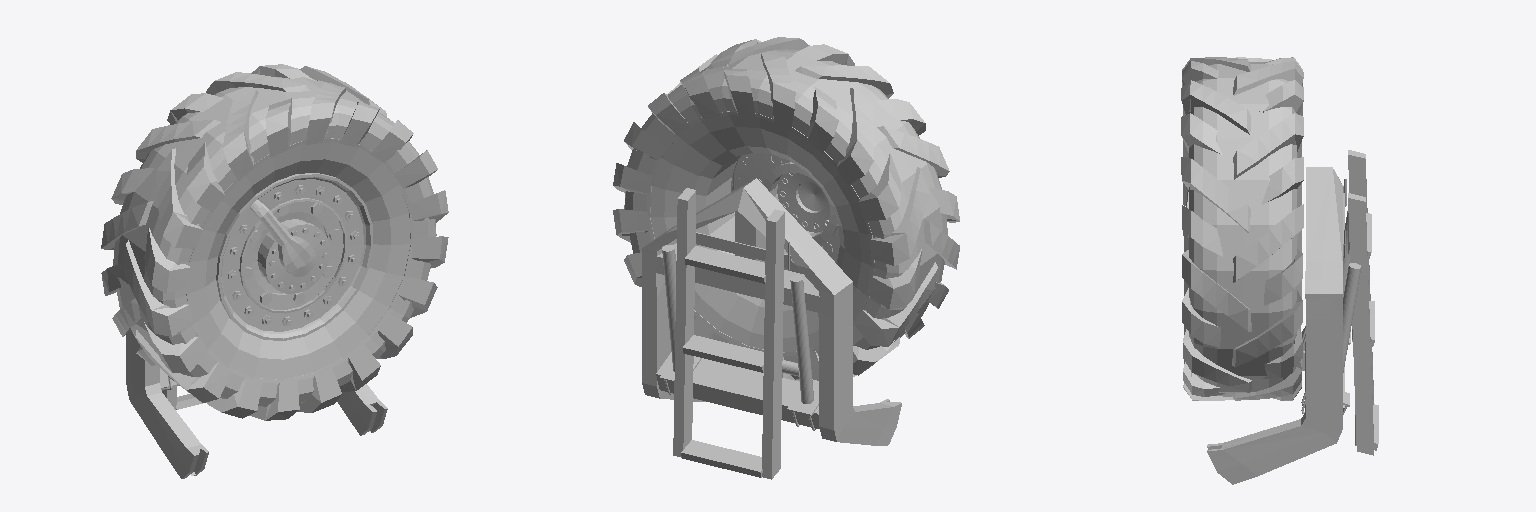
The model's file is backwheel.obj.
3 views of the same model, side by side, from view 1: azimuth 30°, elevation 25°; view 2: azimuth 150°, elevation 25°; view 3: azimuth 270°, elevation 25° (orthographic).
Visible parts, largest first — view 1: spare_wheel_Object35.001, wheel_mounting_Cylinder.001; view 2: spare_wheel_Object35.001, wheel_mounting_Cylinder.001, stairs_Cube.001; view 3: spare_wheel_Object35.001, wheel_mounting_Cylinder.001, stairs_Cube.001.
Part boxes in pixels (left/top/right/bottom): spare_wheel_Object35.001: left=101, top=64, right=448, bottom=420; wheel_mounting_Cylinder.001: left=126, top=330, right=387, bottom=478; spare_wheel_Object35.001: left=613, top=37, right=959, bottom=381; wheel_mounting_Cylinder.001: left=642, top=178, right=901, bottom=445; stairs_Cube.001: left=673, top=188, right=784, bottom=479; spare_wheel_Object35.001: left=1181, top=57, right=1303, bottom=400; wheel_mounting_Cylinder.001: left=1207, top=167, right=1360, bottom=484; stairs_Cube.001: left=1348, top=150, right=1378, bottom=455.
Size of the model in its own units: 1.14 by 1.34 by 0.6562.